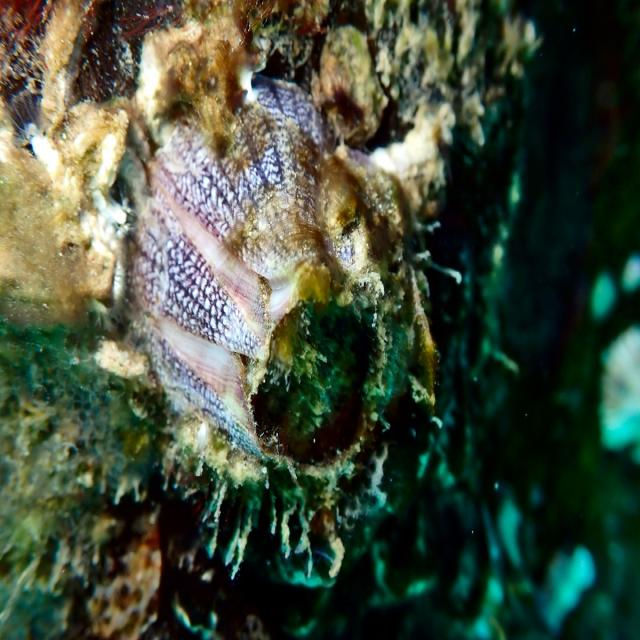barnacles: (129, 56, 439, 546)
